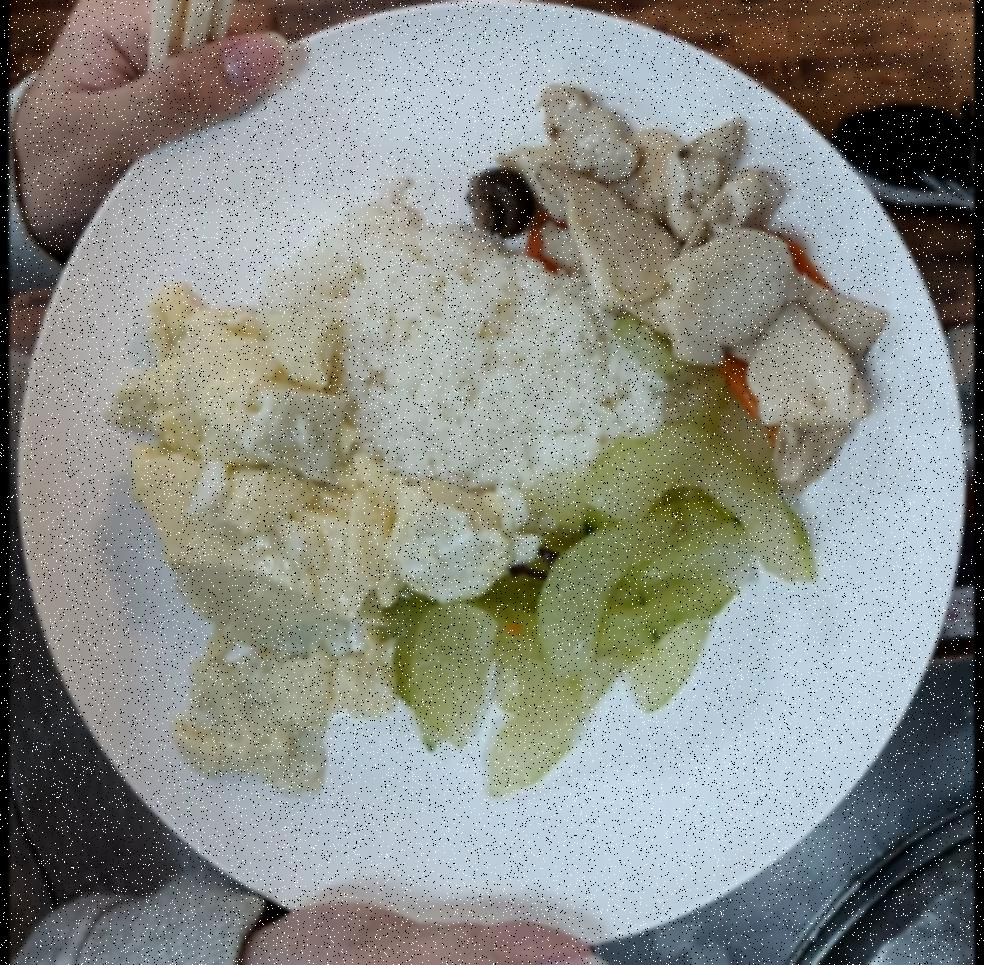plate: (29, 7, 952, 965)
side dish: (390, 384, 815, 785), (470, 80, 878, 476), (123, 278, 397, 796)
white rice: (304, 199, 655, 487)
